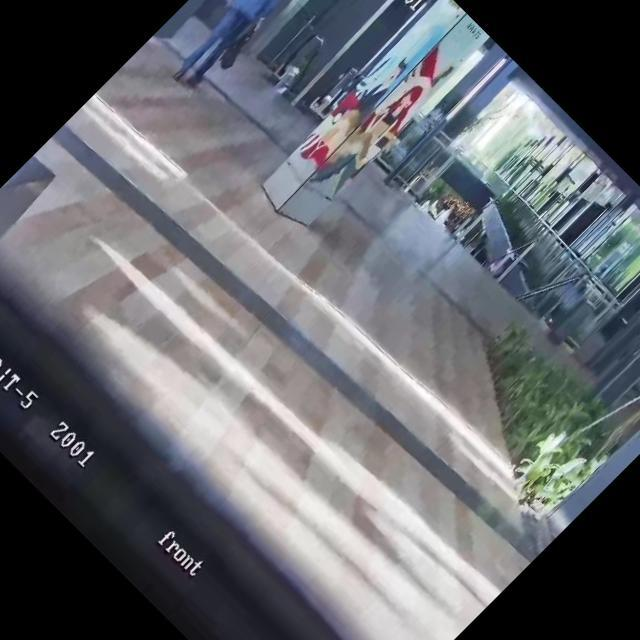person: (157, 0, 332, 97)
